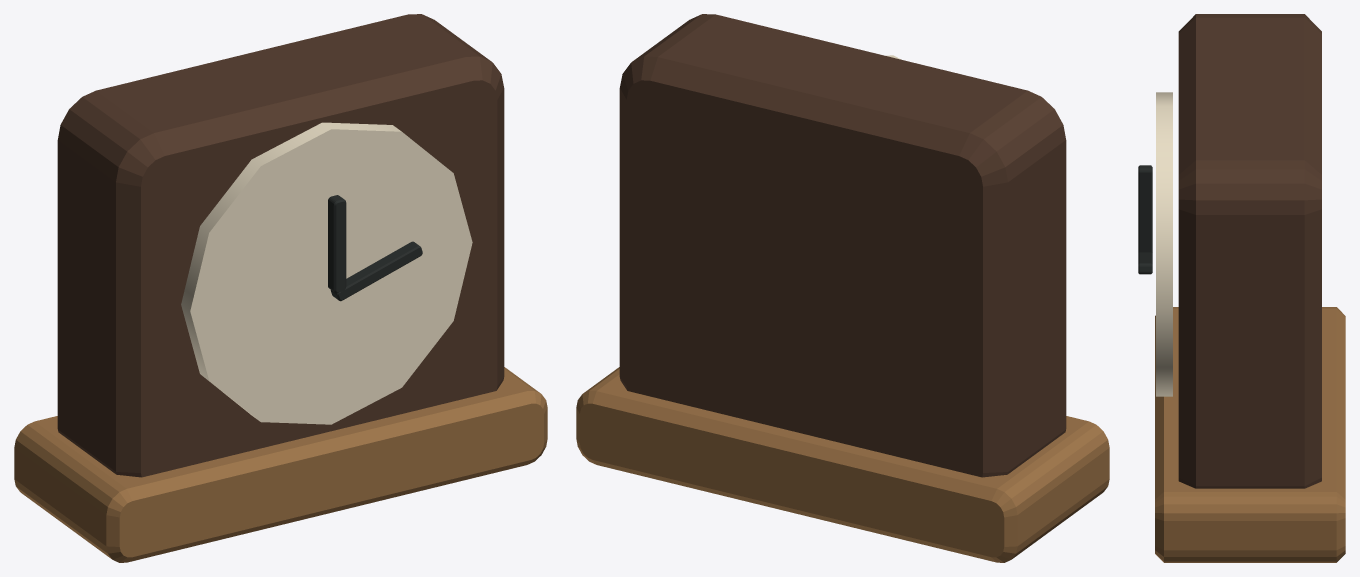
File: clock.glb
3 views of the same model, side by side, from view 1: azimuth 30°, elevation 25°; view 2: azimuth 150°, elevation 25°; view 3: azimuth 270°, elevation 25° (orthographic). The views are drawn at different scales.
Visible parts, largest first — view 1: ClockBody, ClockFace, Foot, HourHand, MinuteHand; view 2: ClockBody, Foot; view 3: ClockBody, Foot, ClockFace, HourHand, MinuteHand.
Boxes of the visible parts, box(x1,y1,x2,y2) form: ClockBody: box(57, 14, 504, 477); ClockFace: box(181, 122, 472, 424); Foot: box(14, 367, 547, 562); HourHand: box(328, 195, 346, 292); MinuteHand: box(330, 241, 422, 301); ClockBody: box(619, 14, 1066, 477); Foot: box(576, 367, 1109, 562); ClockBody: box(1178, 14, 1321, 488); Foot: box(1155, 307, 1345, 562); ClockFace: box(1156, 92, 1172, 396); HourHand: box(1138, 165, 1152, 252); MinuteHand: box(1138, 252, 1152, 274).
Size of the model in its own units: 0.5 by 0.44 by 0.2175.
